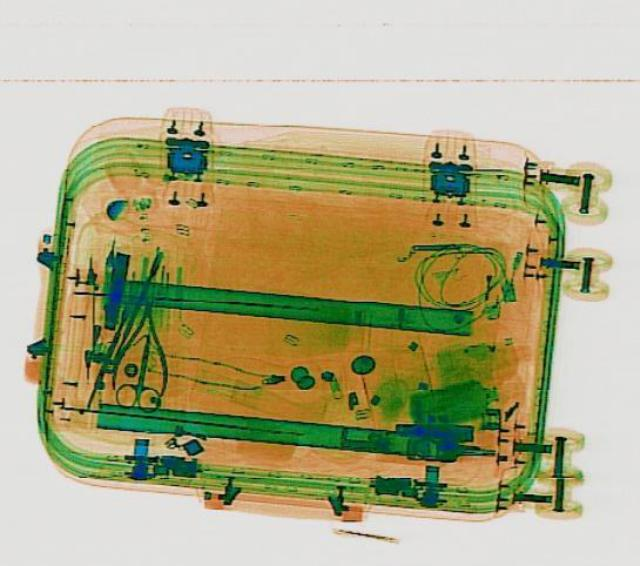Pliers: (107, 295, 177, 393)
Scissors: (111, 326, 169, 411)
